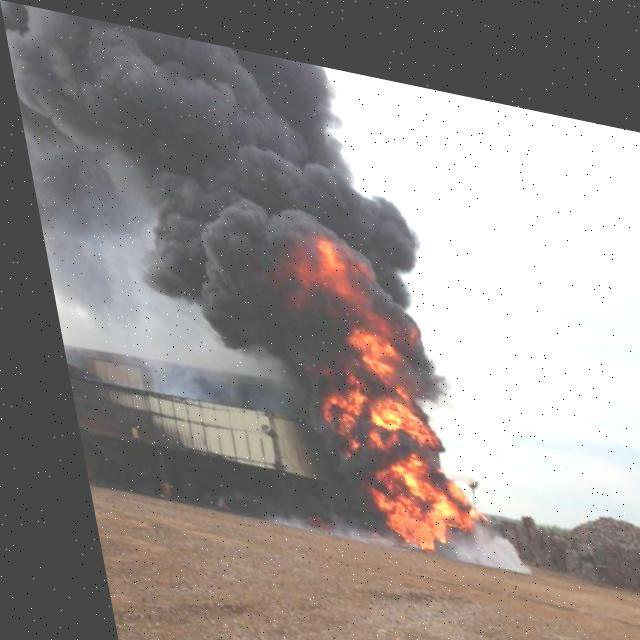Fire: (264, 215, 472, 550)
